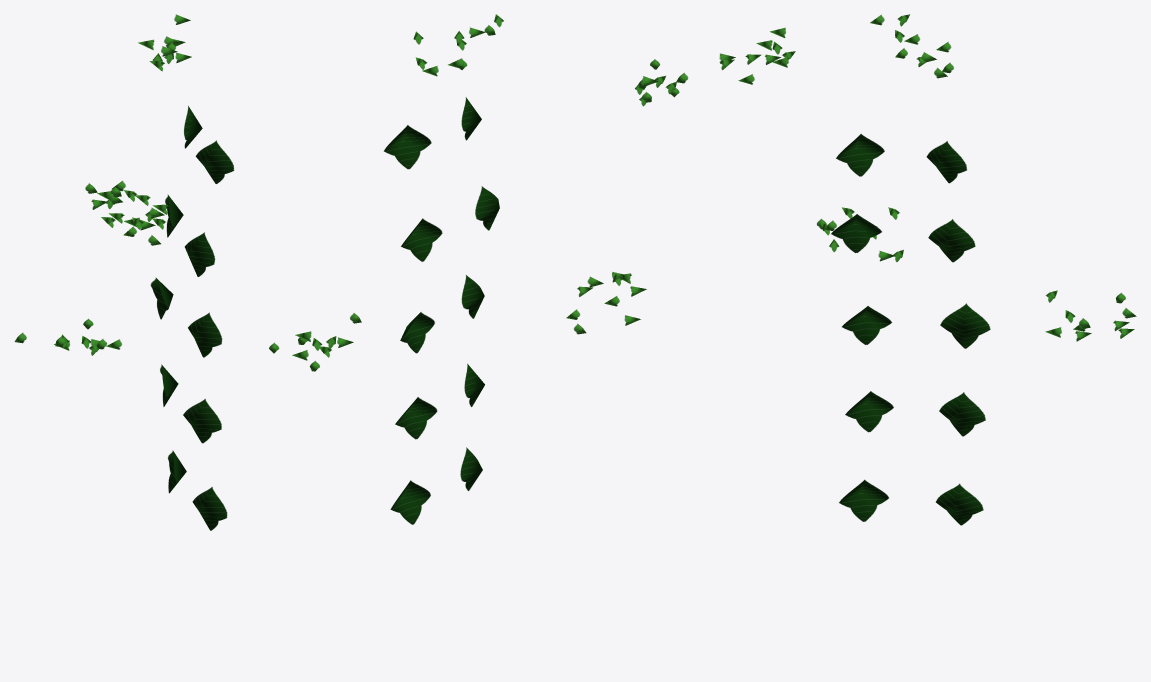
The model's file is Herb_WhiteSnakeroot.glb.
3 renders of one model, left to right at view 1: azimuth 30°, elevation 25°; view 2: azimuth 150°, elevation 25°; view 3: azimuth 270°, elevation 25°, orthographic.
Visible parts, largest first — view 1: Herb_WhiteSnakeroot; view 2: Herb_WhiteSnakeroot; view 3: Herb_WhiteSnakeroot.
Part boxes in pixels (<box>): Herb_WhiteSnakeroot: <box>14,14,234,530</box>; Herb_WhiteSnakeroot: <box>269,14,687,524</box>; Herb_WhiteSnakeroot: <box>719,14,1136,525</box>.
Bounding box in the file's own units: 0.5265 × 1.27 × 0.7495.
Materials: 1 (1 with a texture image).
